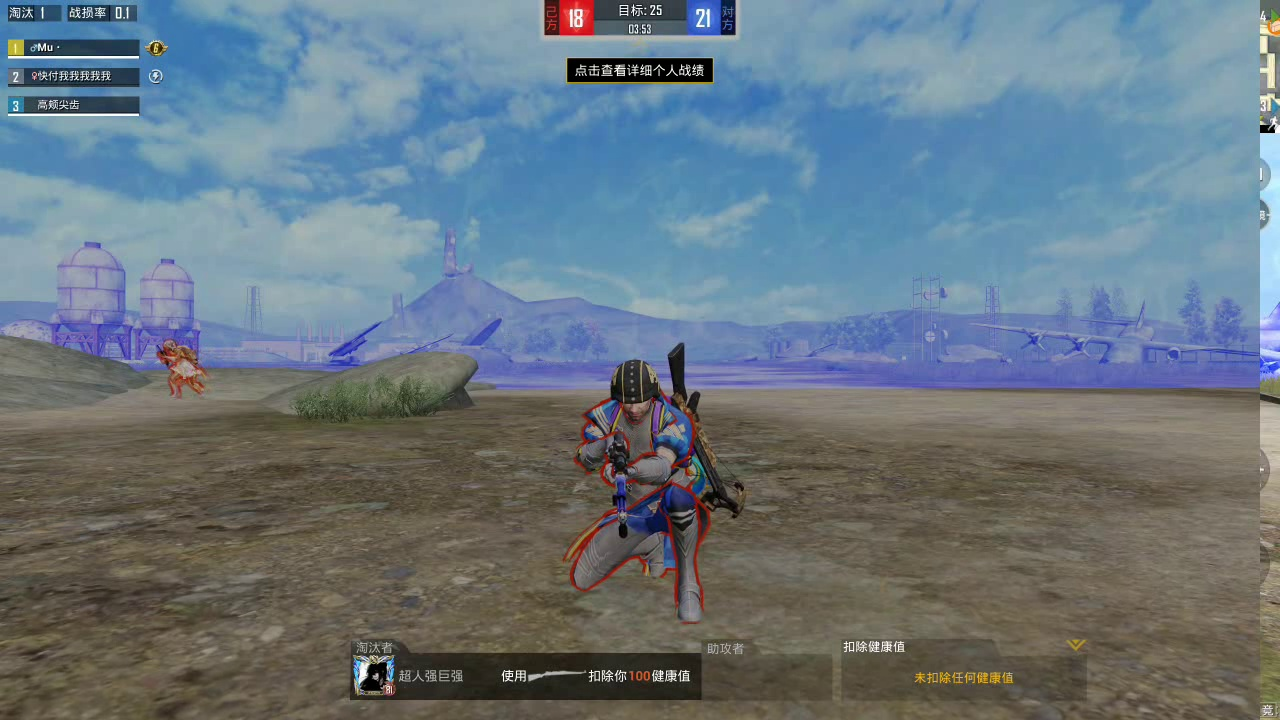enemy: (574, 360, 718, 623), (158, 338, 203, 395)
